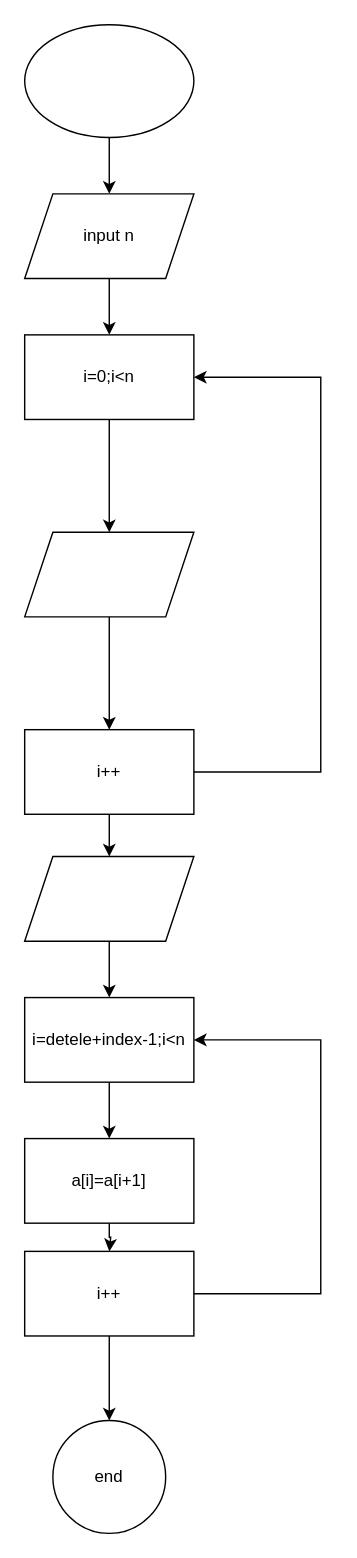
This 357x1558 diagram has some shape labels left out. Here are the shapes that lost their labels. From the top down, the centre of each, then its label:
At (108,80): "start".
At (108,574): "input a[i]".
At (108,898): "input delete_index".
